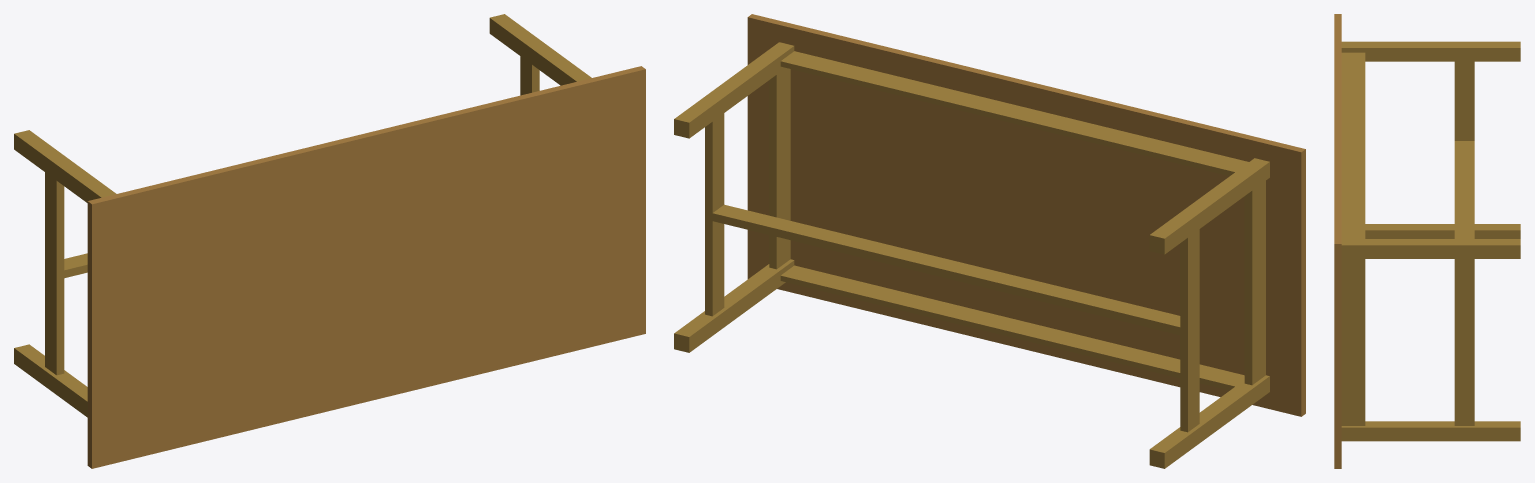
Rendered from table_cream.obj.
The picture shows the model from 3 angles, left to right: view 1: azimuth 30°, elevation 25°; view 2: azimuth 150°, elevation 25°; view 3: azimuth 270°, elevation 25°; orthographic projection. The views are drawn at different scales.
Visible parts, largest first — view 1: Table_wooden; view 2: Table_wooden; view 3: Table_wooden.
Boxes of the visible parts, left/top/right/bottom form: Table_wooden: left=14, top=14, right=645, bottom=468; Table_wooden: left=674, top=14, right=1305, bottom=468; Table_wooden: left=1334, top=14, right=1520, bottom=468.
Bounding box in the file's own units: 2190 × 1000 × 750.
